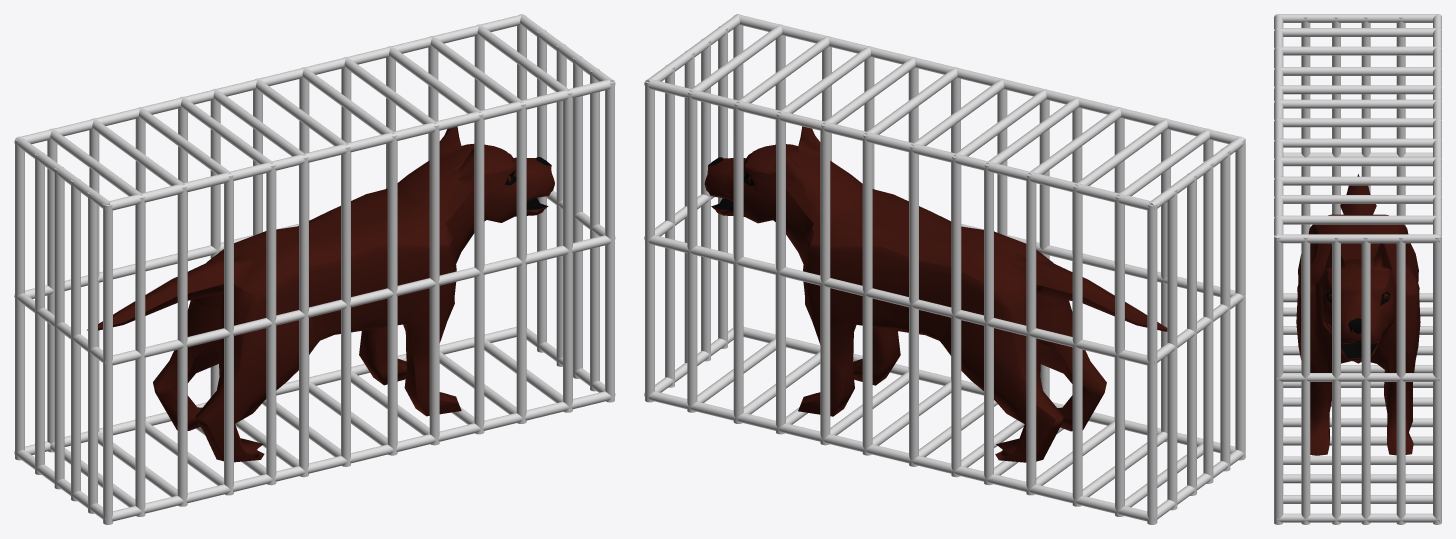
File: DogInCage.fbx
3 views of the same model, side by side, from view 1: azimuth 30°, elevation 25°; view 2: azimuth 150°, elevation 25°; view 3: azimuth 270°, elevation 25° (orthographic). The views are drawn at different scales.
Parts seen in each view (by area): view 1: pCylinder2, pCube1; view 2: pCylinder2, pCube1; view 3: pCylinder2, pCube1.
Part boxes in pixels (<box>): pCylinder2: <box>14,14,615,524</box>; pCube1: <box>87,126,554,462</box>; pCylinder2: <box>644,14,1245,524</box>; pCube1: <box>704,126,1167,462</box>; pCylinder2: <box>1274,14,1441,524</box>; pCube1: <box>1296,174,1420,455</box>.
Bounding box in the file's own units: 23.46 × 14.08 × 7.42.
